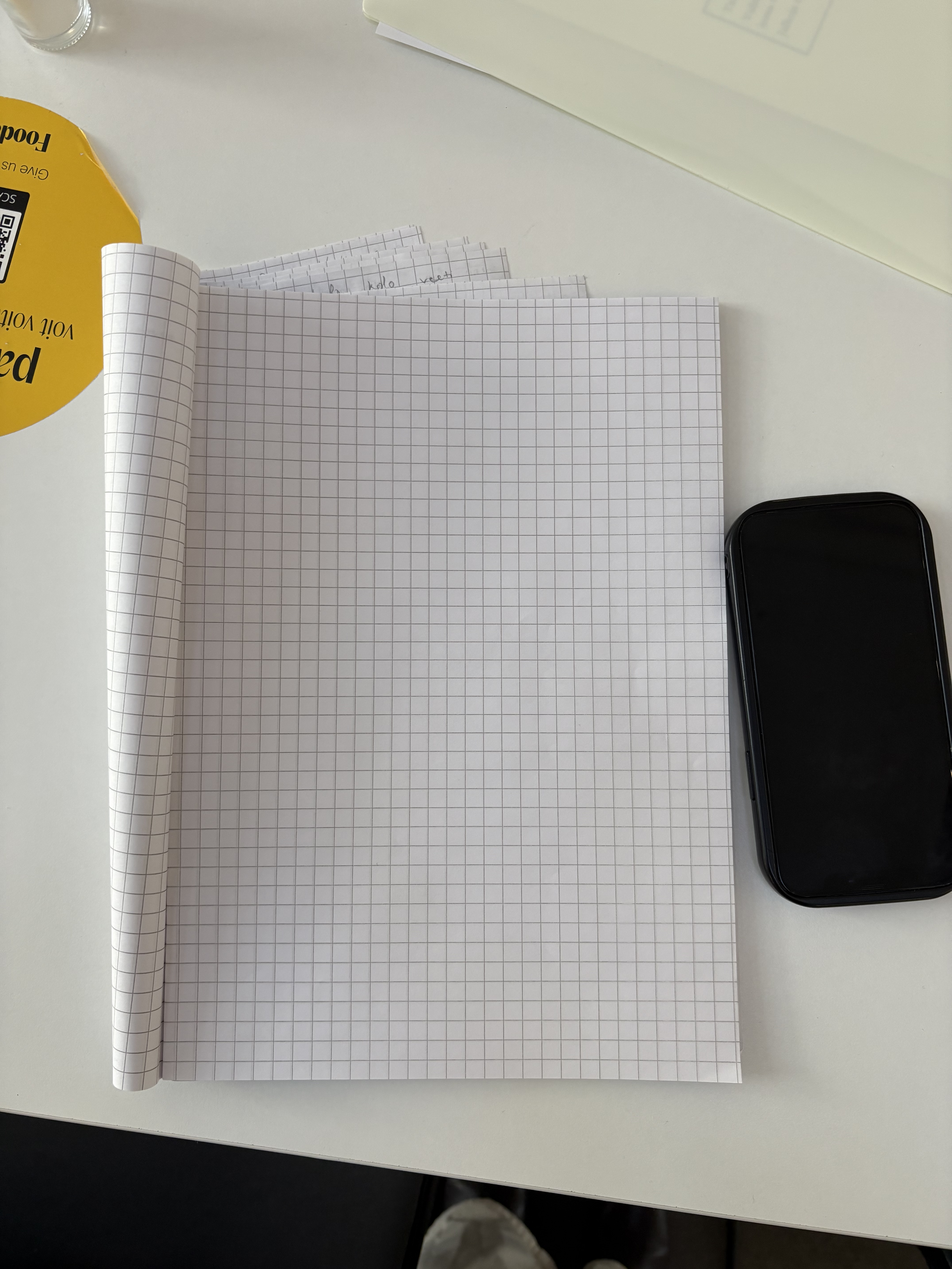paper: (91, 228, 749, 1094)
